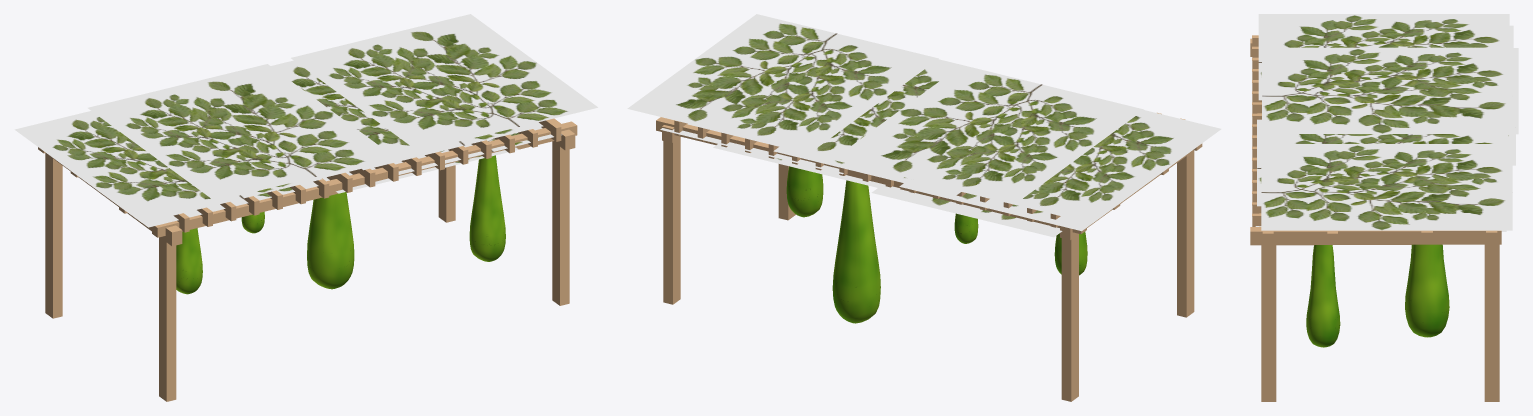
File: Macha With Lau.fbx
The picture shows the model from 3 angles, left to right: view 1: azimuth 30°, elevation 25°; view 2: azimuth 150°, elevation 25°; view 3: azimuth 270°, elevation 25°; orthographic projection. The views are drawn at different scales.
Visible parts, largest first — view 1: Leaves, Macha, Lau_Baked; view 2: Leaves, Macha, Lau_Baked; view 3: Leaves, Macha, Lau_Baked.
Boxes of the visible parts, x1,y1,x2,y2 form: Leaves: [14, 14, 597, 227]; Macha: [38, 118, 577, 401]; Lau_Baked: [176, 155, 505, 294]; Leaves: [627, 14, 1221, 237]; Macha: [656, 112, 1202, 401]; Lau_Baked: [786, 166, 1087, 323]; Leaves: [1255, 14, 1518, 231]; Macha: [1250, 35, 1501, 401]; Lau_Baked: [1306, 244, 1449, 347].
Size of the model in its own units: 952 by 391 by 492.
3 materials, 2 textured.
